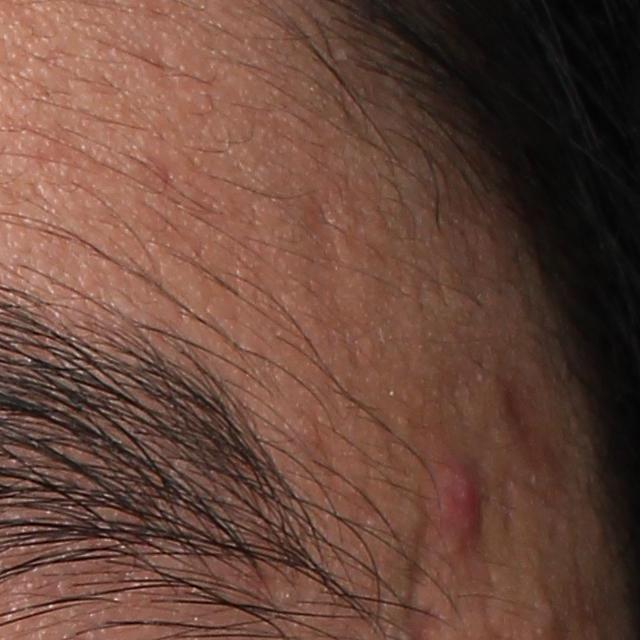papule: (444, 461, 481, 545)
